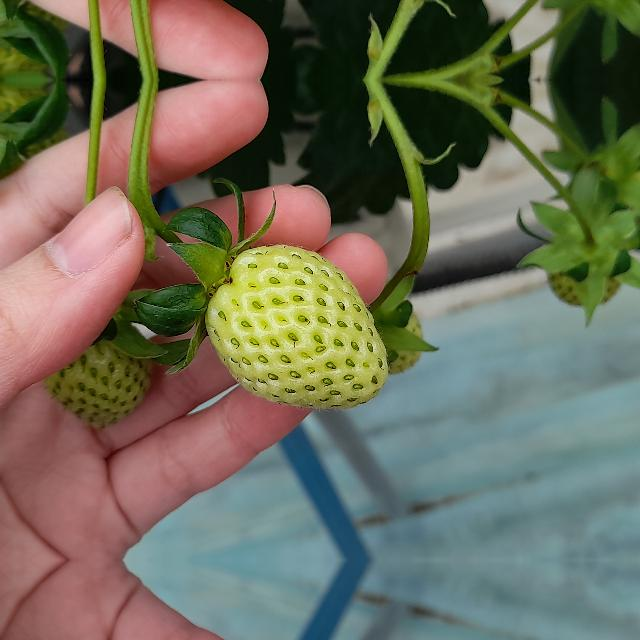Health_25: (205, 244, 387, 408), (42, 322, 162, 438)
